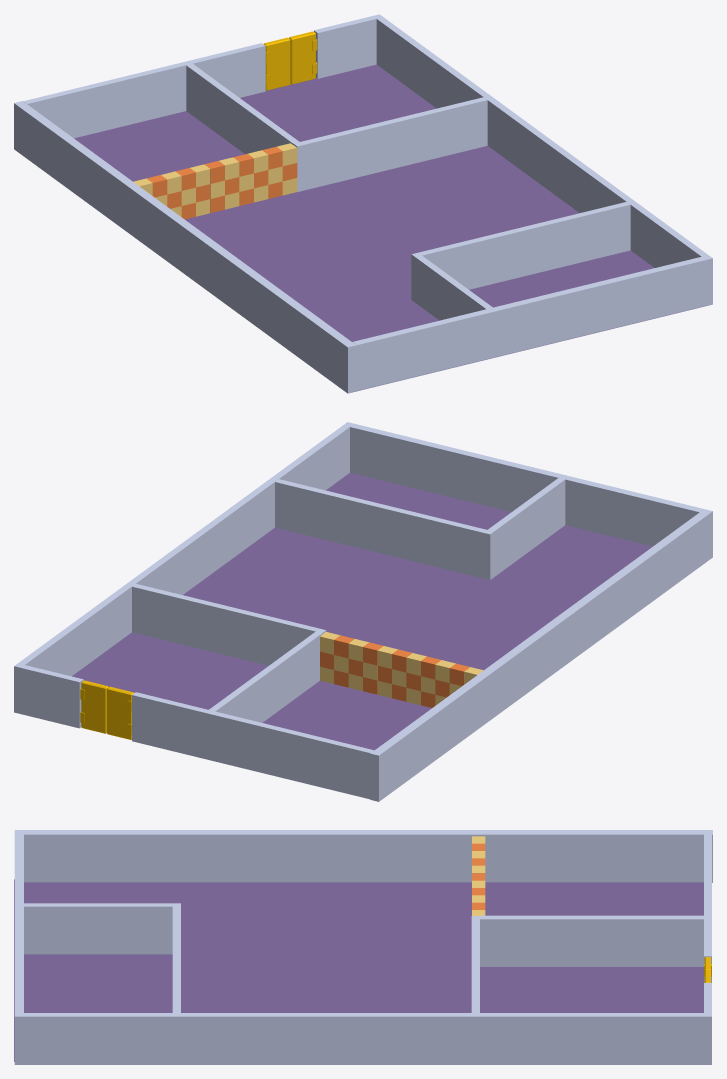
Rendered from maps41.fbx.
The picture shows the model from 3 angles, top to bottom: view 1: azimuth 30°, elevation 25°; view 2: azimuth 150°, elevation 25°; view 3: azimuth 270°, elevation 25°; orthographic projection. The views are drawn at different scales.
Visible parts, largest first — view 1: wall_01_08_geo, wall_01_07_geo, wall_01_05_geo, wall_01_06_geo1, wall_01_09_geo5, wall_01_09_geo6, wall_01_09_geo, wall_01_11_geo5, wall_01_09_geo7, wall_01_11_geo7, polySurface165, polySurface161; view 2: wall_01_08_geo, wall_01_07_geo, wall_01_05_geo, wall_01_06_geo1, wall_01_09_geo, wall_01_09_geo5, wall_01_09_geo6, wall_01_11_geo5, wall_01_11_geo7, wall_01_09_geo7, polySurface165, polySurface161; view 3: wall_01_08_geo, wall_01_06_geo1, wall_01_07_geo, wall_01_11_geo5, wall_01_11_geo7, wall_01_05_geo, wall_01_09_geo, wall_01_09_geo5, wall_01_09_geo6.
Part boxes in pixels (x1,y1,x2,y2): wall_01_08_geo: (74, 64, 707, 392); wall_01_07_geo: (14, 101, 356, 393); wall_01_05_geo: (352, 257, 705, 391); wall_01_06_geo1: (373, 14, 712, 305); wall_01_09_geo5: (411, 202, 630, 302); wall_01_09_geo6: (293, 97, 487, 191); wall_01_09_geo: (23, 43, 265, 138); wall_01_11_geo5: (186, 63, 299, 154); wall_01_09_geo7: (314, 16, 376, 78); wall_01_11_geo7: (415, 255, 492, 320); polySurface165: (289, 31, 317, 84); polySurface161: (263, 37, 290, 90); wall_01_08_geo: (72, 473, 652, 750); wall_01_07_geo: (370, 509, 712, 801); wall_01_05_geo: (350, 423, 703, 546); wall_01_06_geo1: (14, 422, 353, 713); wall_01_09_geo: (132, 692, 373, 799); wall_01_09_geo5: (275, 479, 493, 579); wall_01_09_geo6: (132, 584, 326, 665); wall_01_11_geo5: (209, 631, 322, 722); wall_01_11_geo7: (488, 478, 565, 576); wall_01_09_geo7: (20, 665, 83, 728); polySurface165: (80, 680, 108, 733); polySurface161: (107, 686, 133, 739); wall_01_08_geo: (14, 879, 703, 1061); wall_01_06_geo1: (14, 1013, 711, 1064); wall_01_07_geo: (14, 830, 712, 882); wall_01_11_geo5: (480, 915, 703, 966); wall_01_11_geo7: (23, 903, 172, 954); wall_01_05_geo: (14, 834, 23, 1012); wall_01_09_geo: (704, 834, 711, 982); wall_01_09_geo5: (172, 903, 180, 1012); wall_01_09_geo6: (471, 916, 479, 1012).
Size of the model in its own units: 73.34 by 8.96 by 116.
3 materials, 3 textured.
